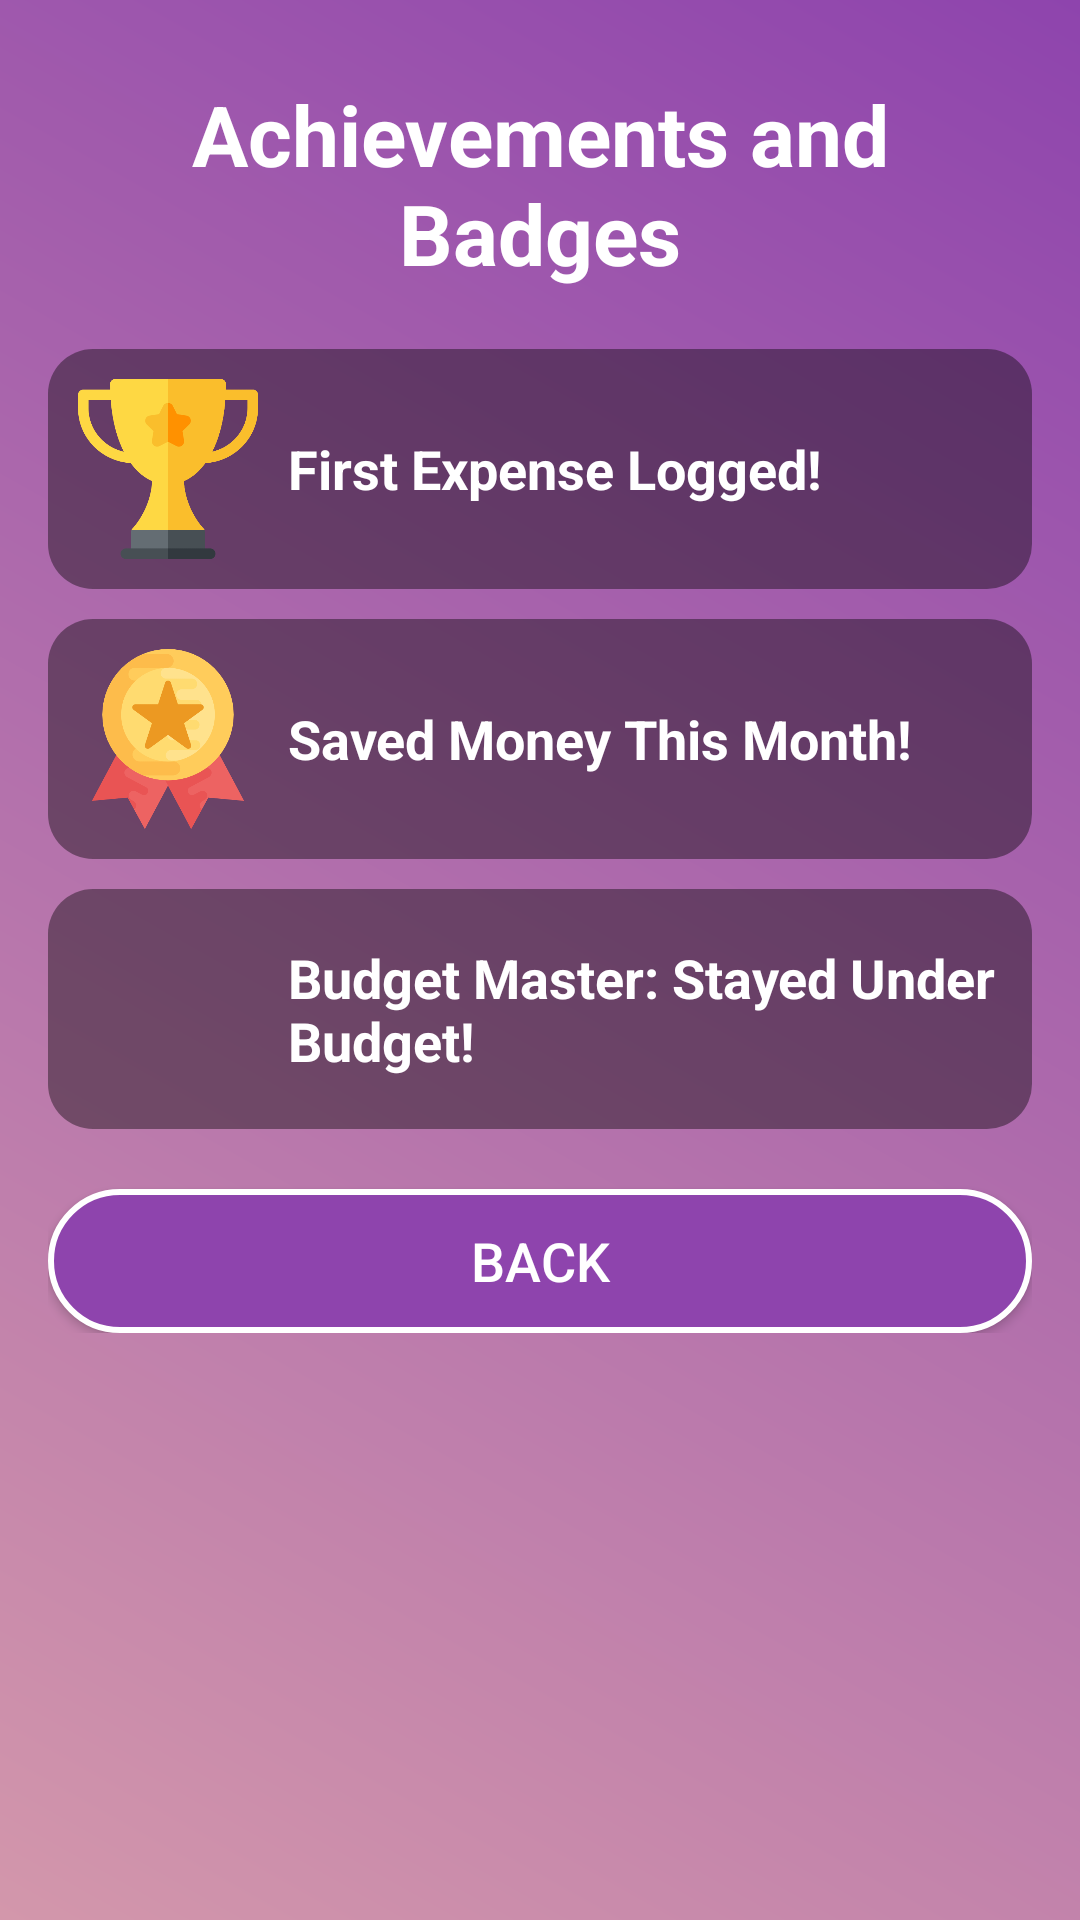

Where icons sit on this 1080×1920 app screen, as (x1, y1, x2, y2):
First Expense Badge: (78, 379, 258, 559)
Saved Money Badge: (92, 649, 244, 829)
